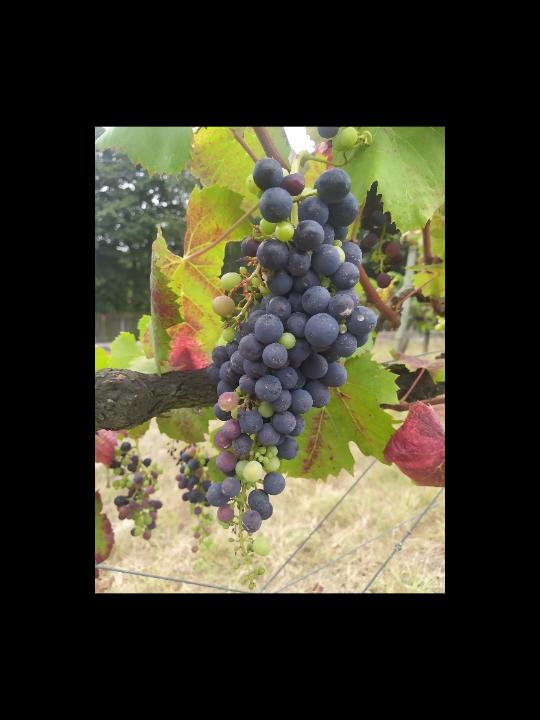grape: (212, 156, 378, 590), (166, 438, 219, 579), (107, 442, 164, 542)
